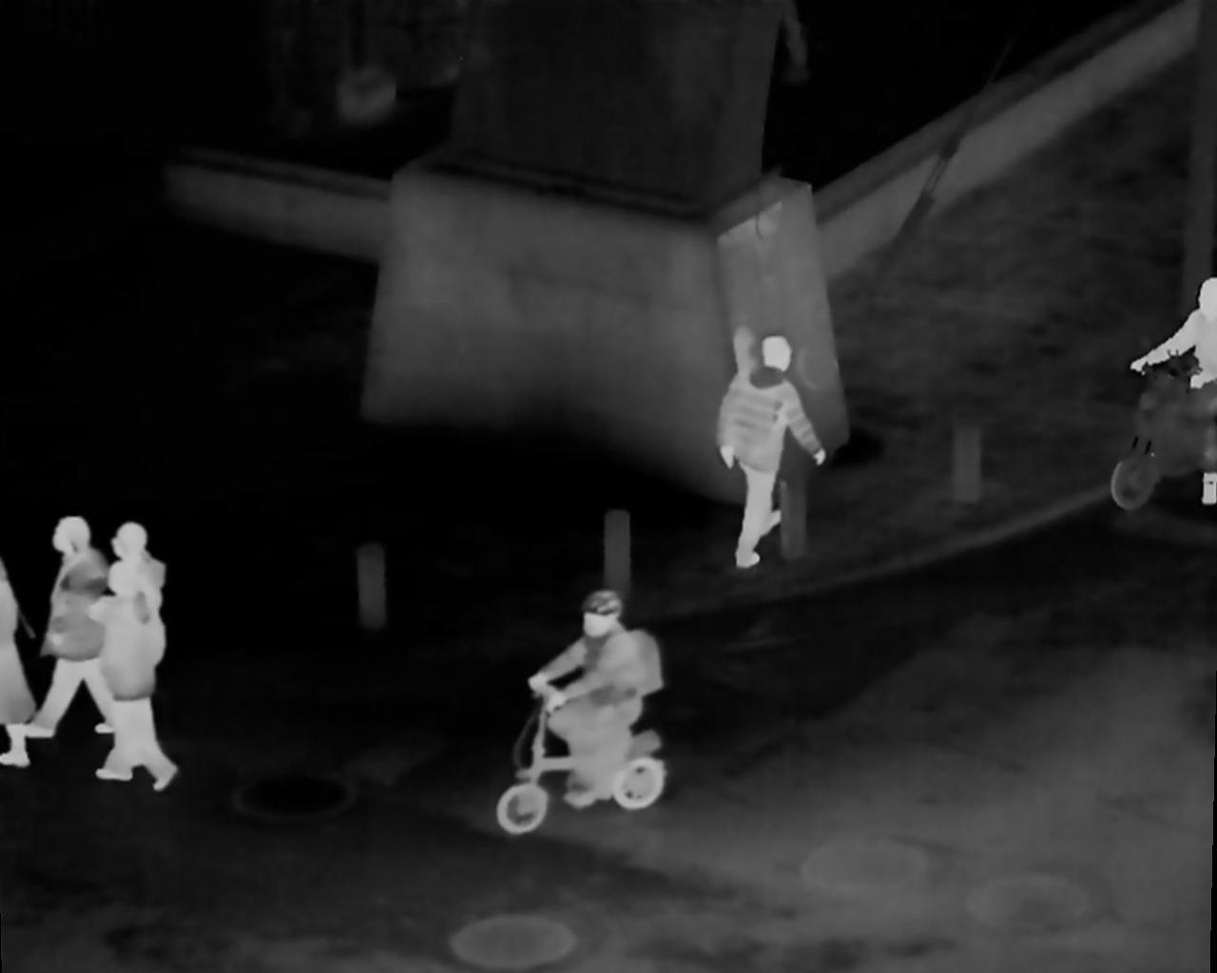person: (699, 338, 841, 559), (525, 593, 655, 824), (92, 522, 176, 786), (1142, 286, 1217, 507), (37, 524, 116, 733), (88, 571, 171, 757)
